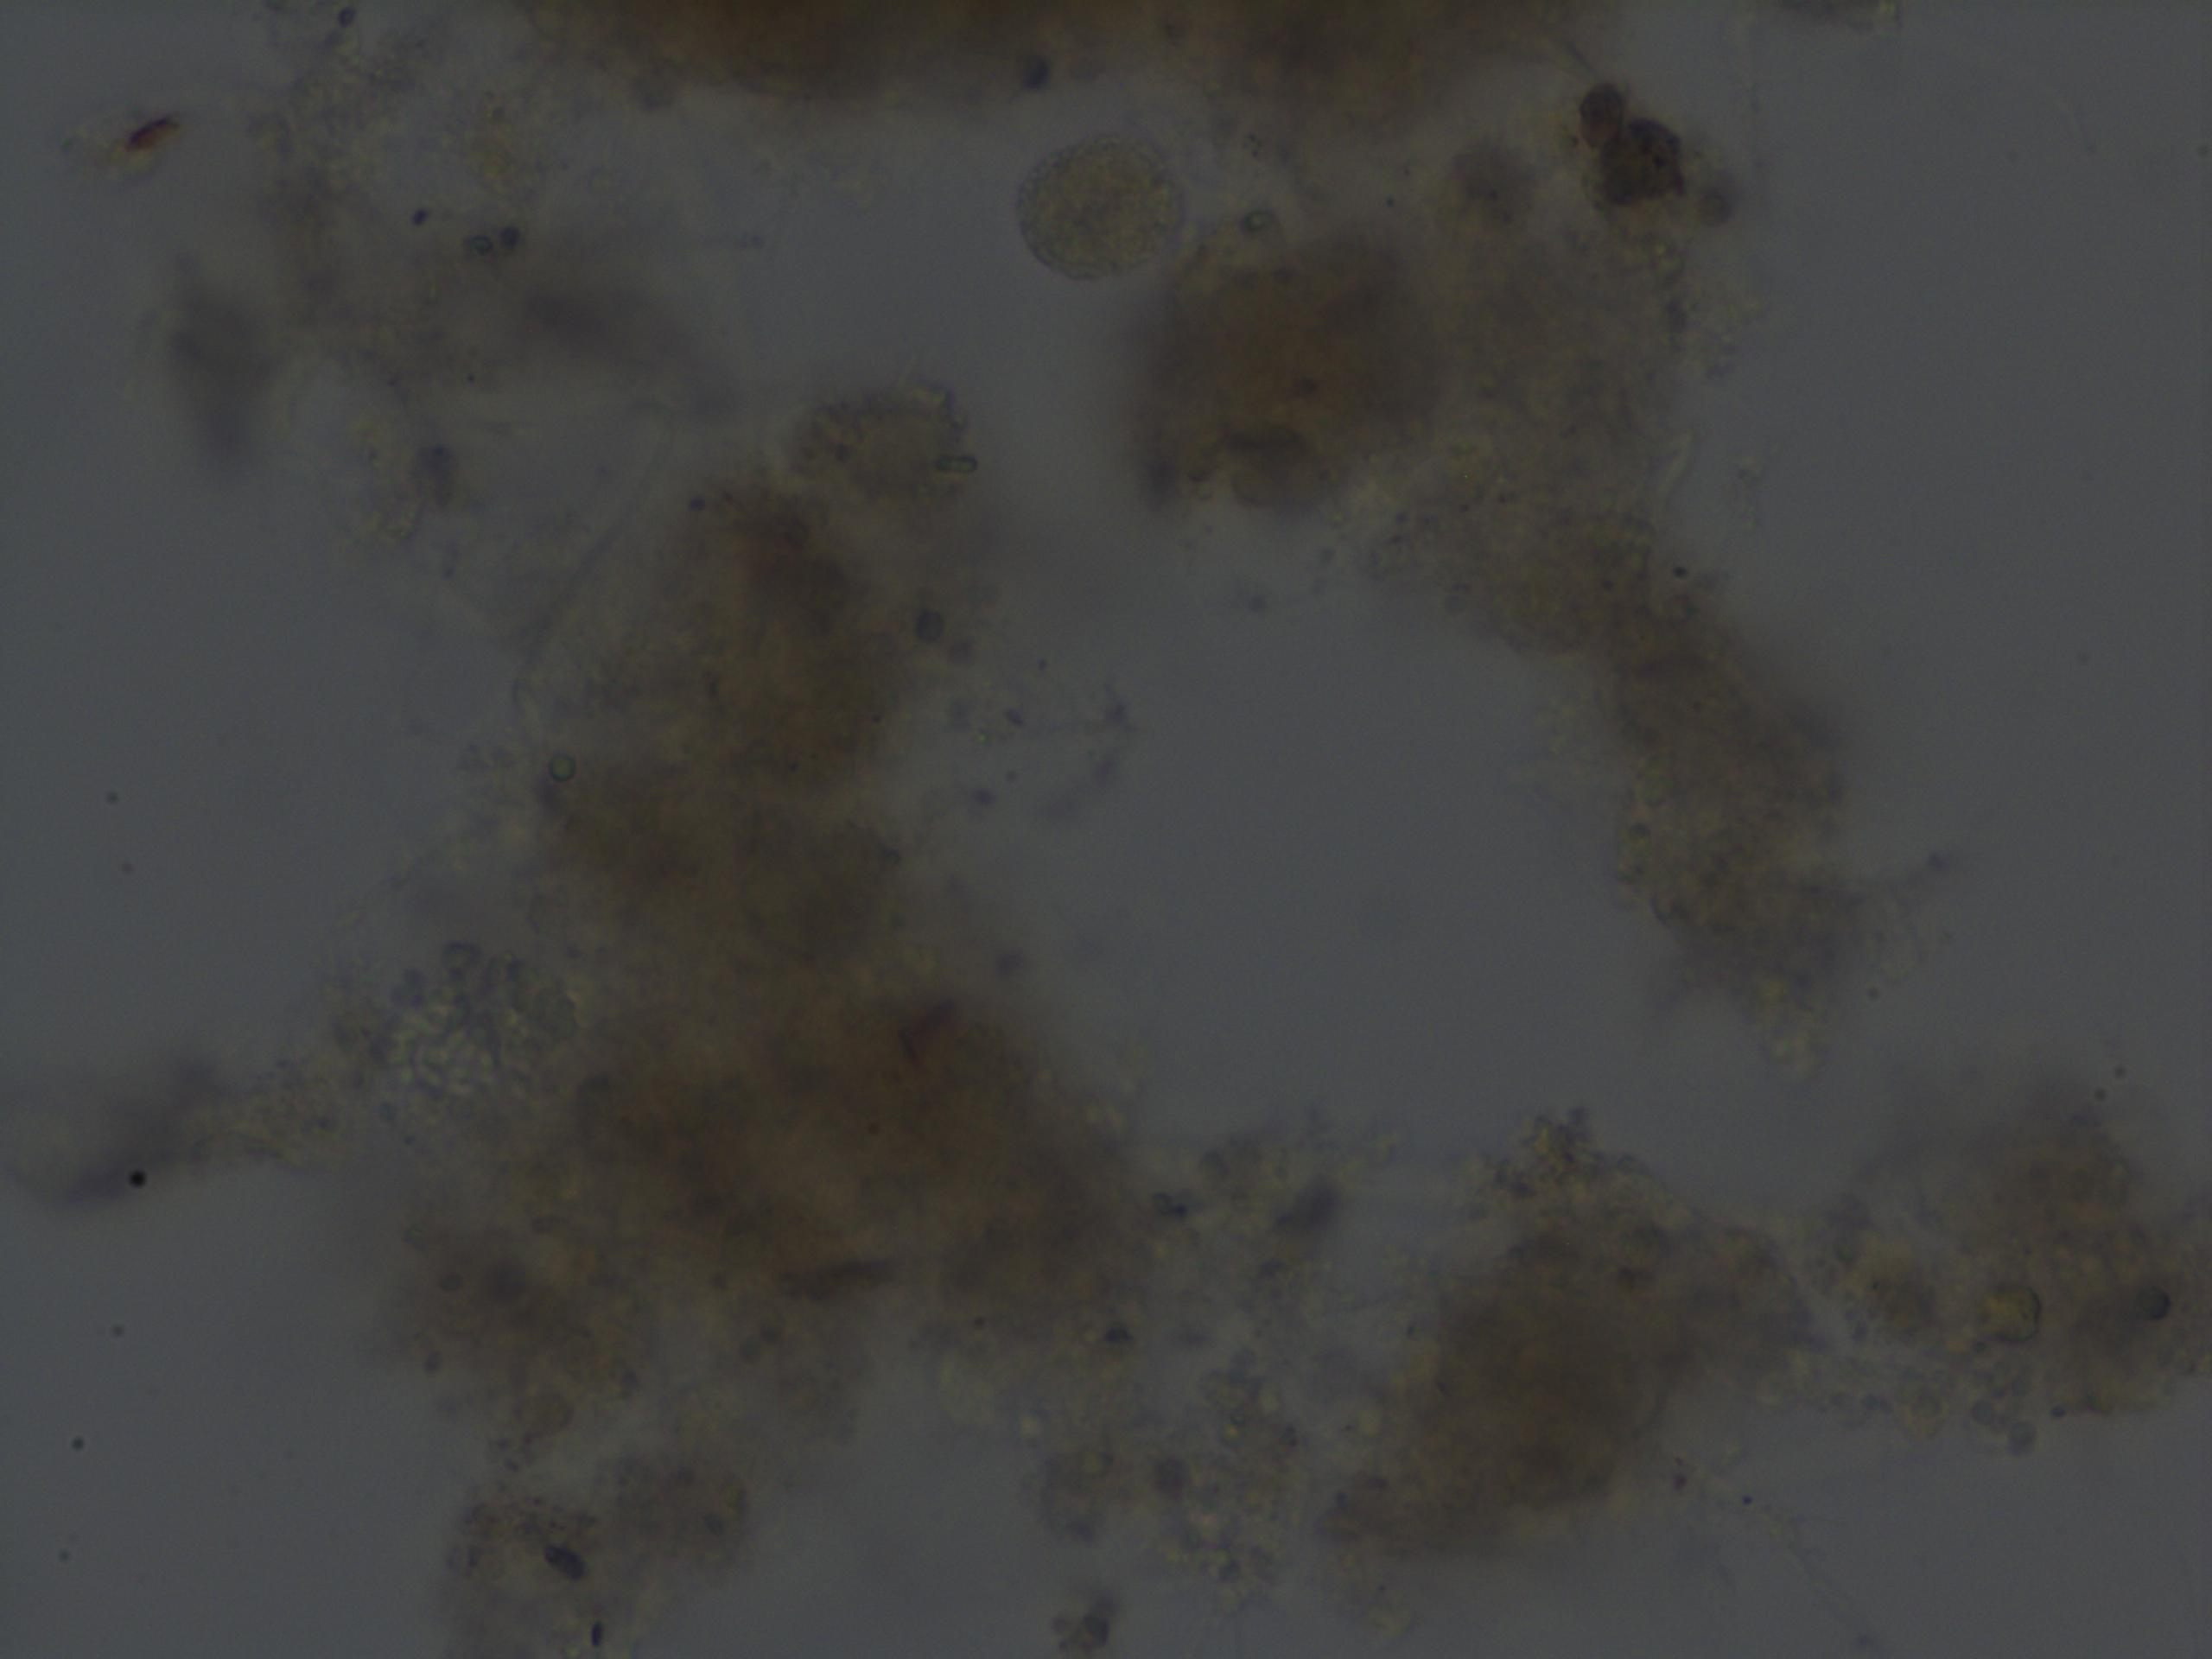open_floc: (150, 105, 2205, 1659)
